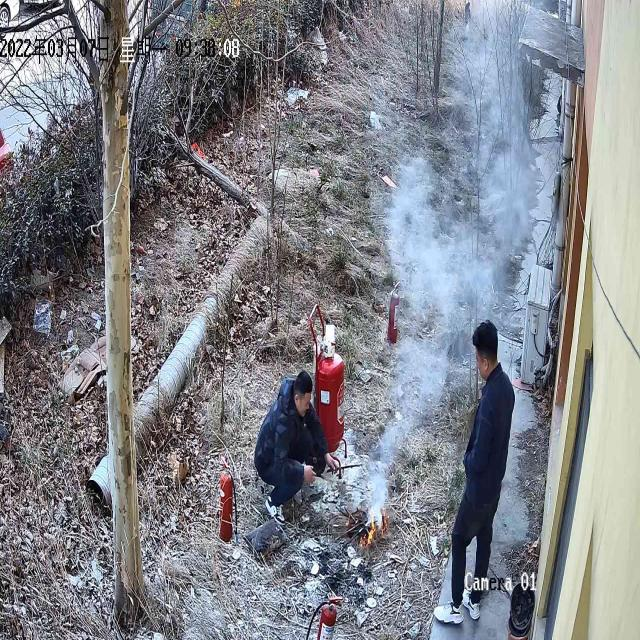Fire: (354, 498, 391, 560)
Smoke: (363, 2, 557, 456)
